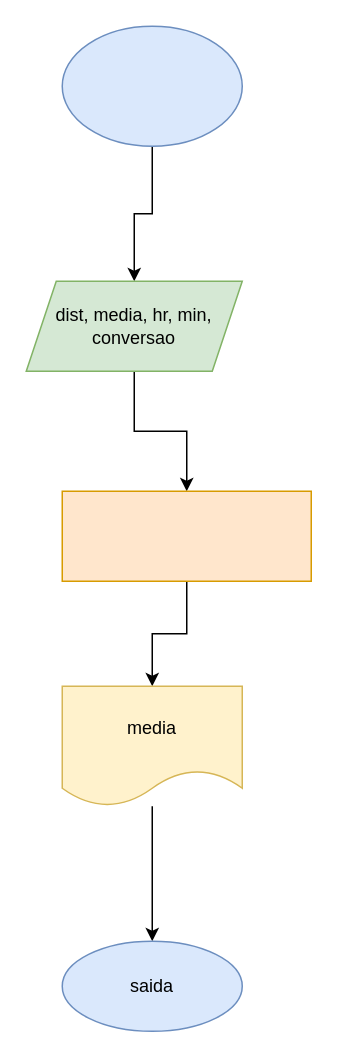
This 338x1058 diagram has some shape labels left out. Here are the shapes that lost their labels. From the top down, the box of each, then its label:
(61, 25, 242, 146): inicio
(61, 490, 311, 581): conversao <- (min/60)+ hr media <- dist/conversao
